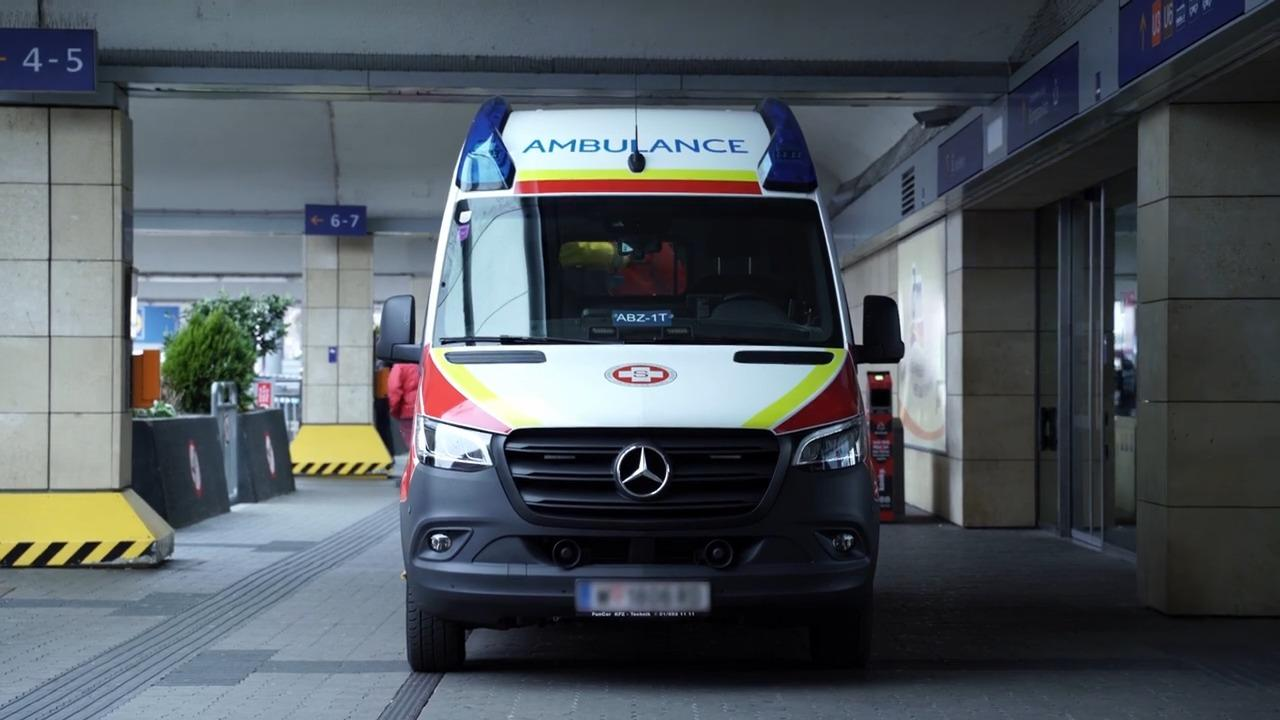car: (377, 92, 904, 674)
